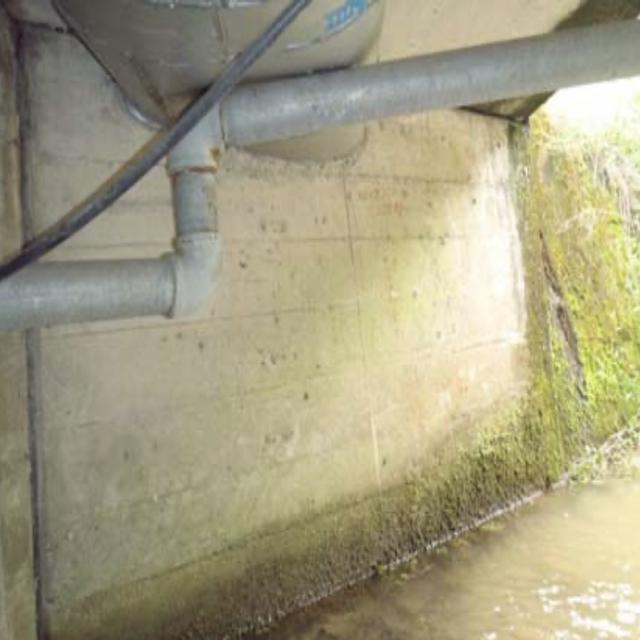leakage: (507, 123, 633, 441)
